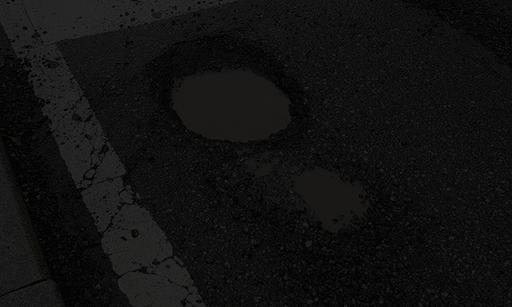pothole: (145, 30, 316, 153), (279, 159, 383, 243)
